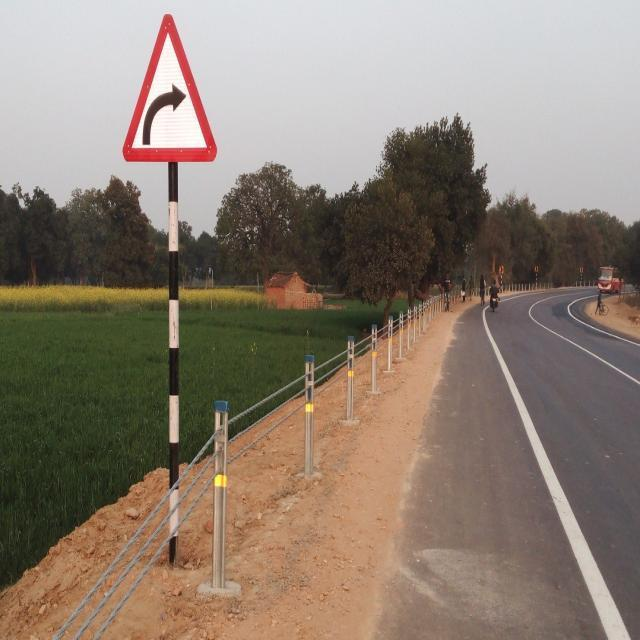right hand curve: (120, 10, 216, 165)
